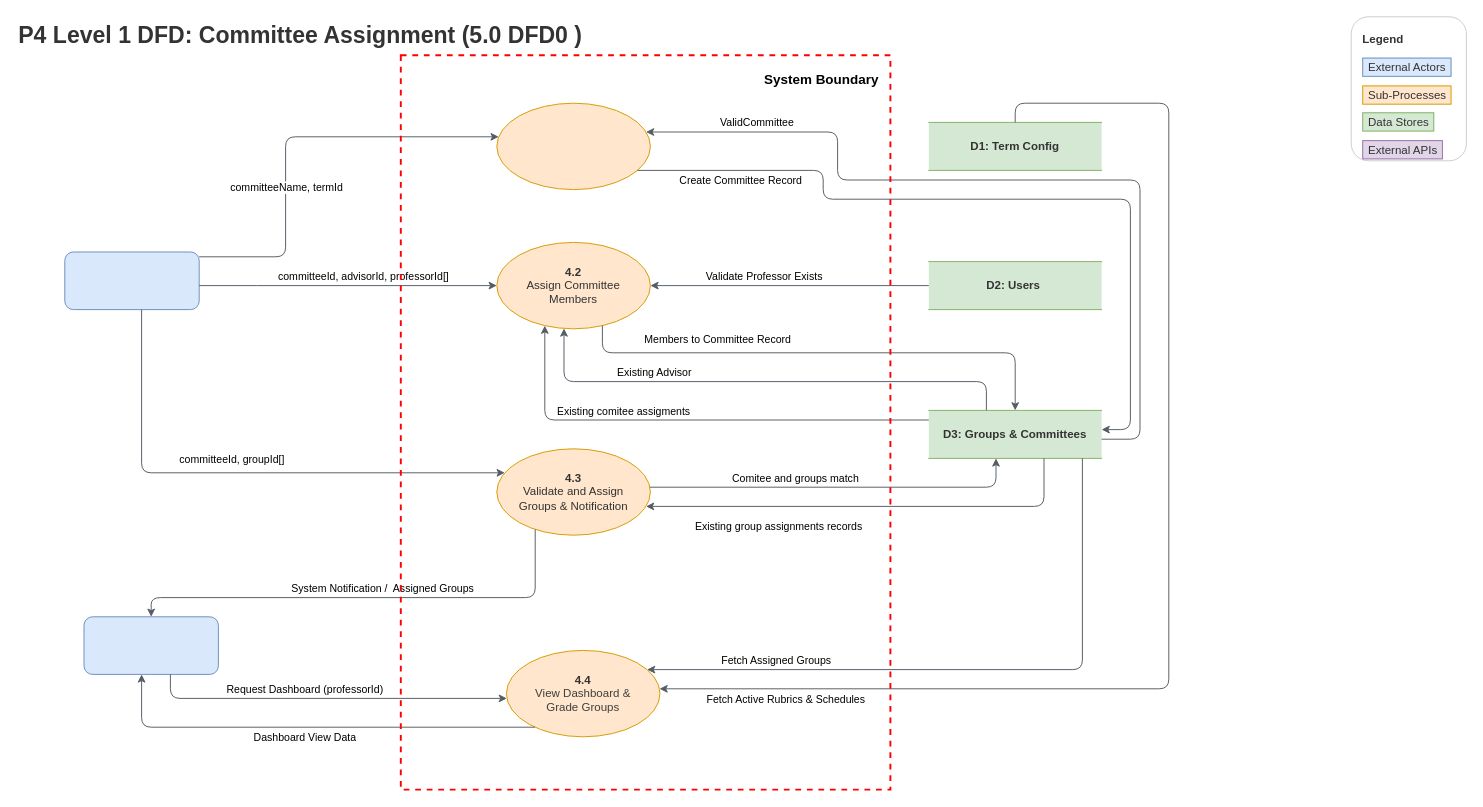
This 1483x807 diagram has some shape labels left out. Each missing label, with the centre of its shape:
4.1 Create Committee: (573,146)
COORDINATOR: (131,280)
PROFESSOR (Advisor / Jury): (150,645)
